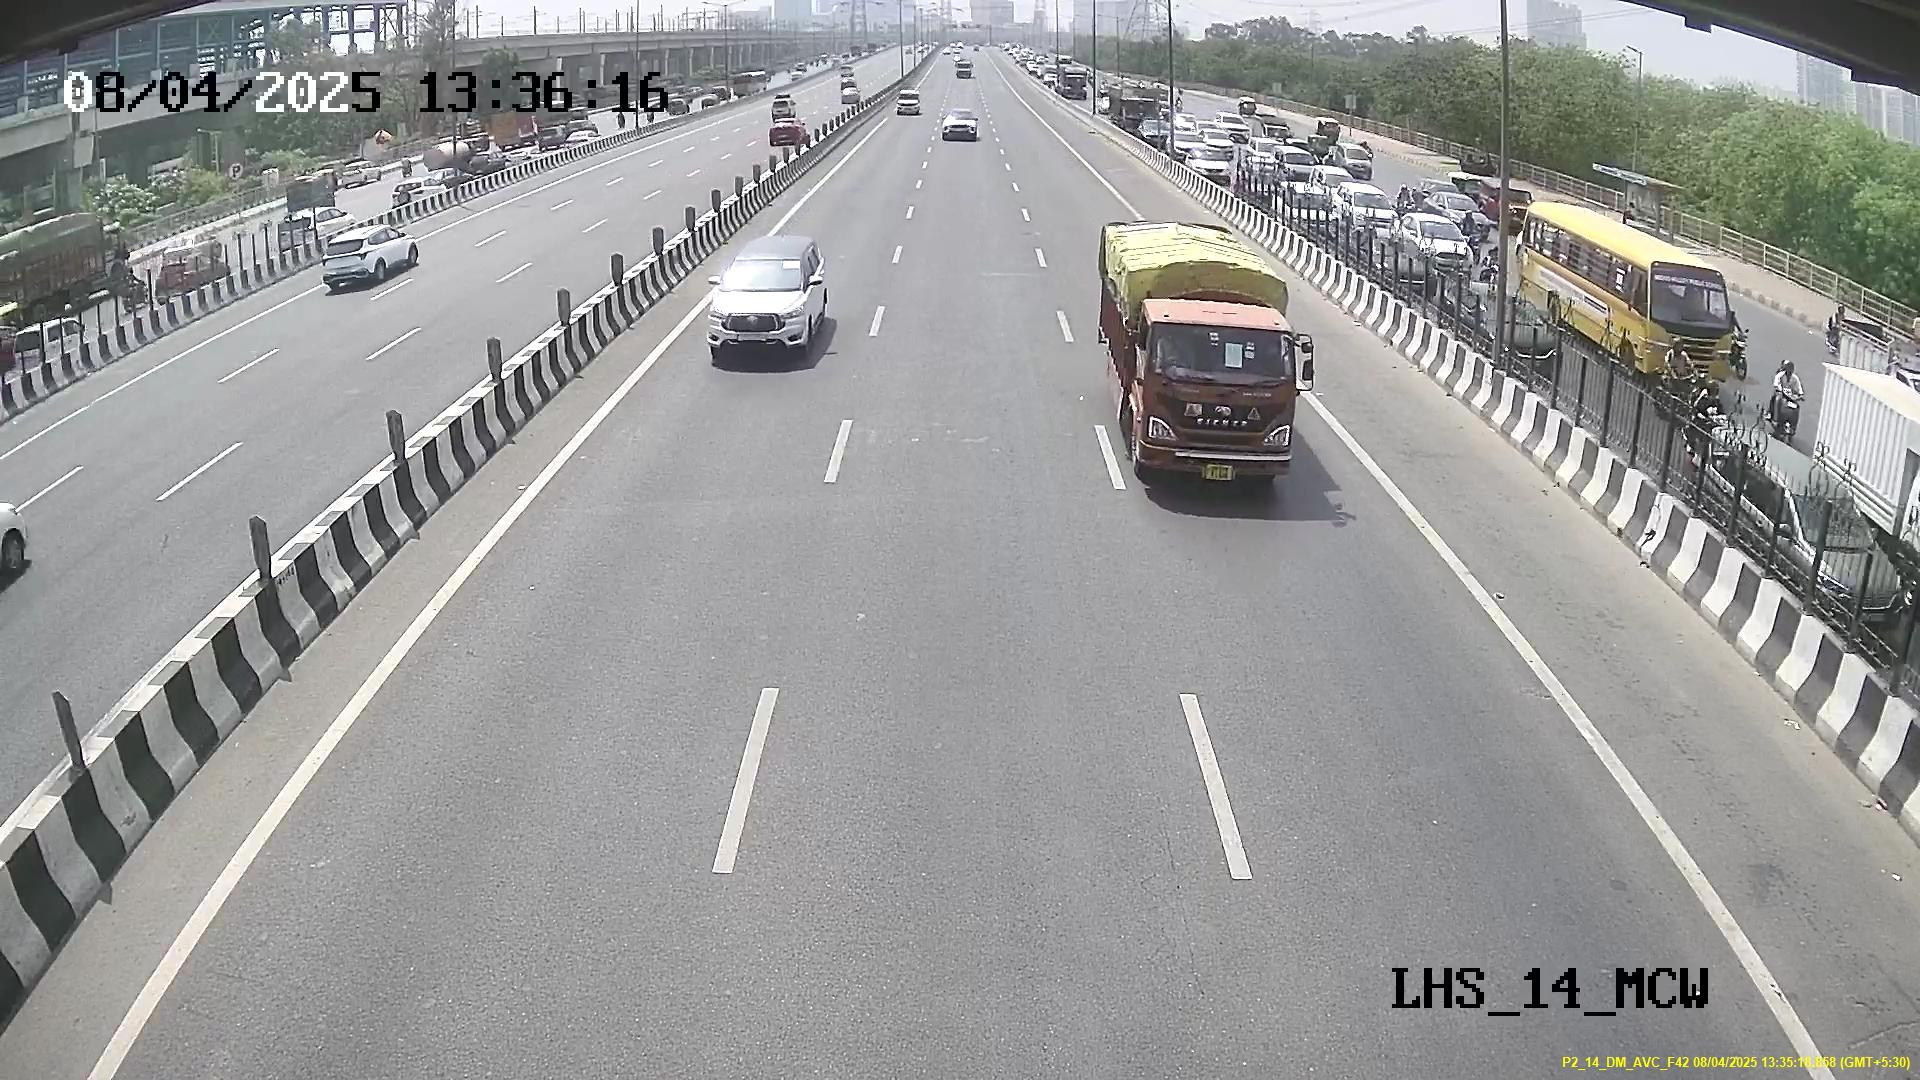car: (702, 235, 829, 361)
lcv: (1131, 302, 1299, 484)
